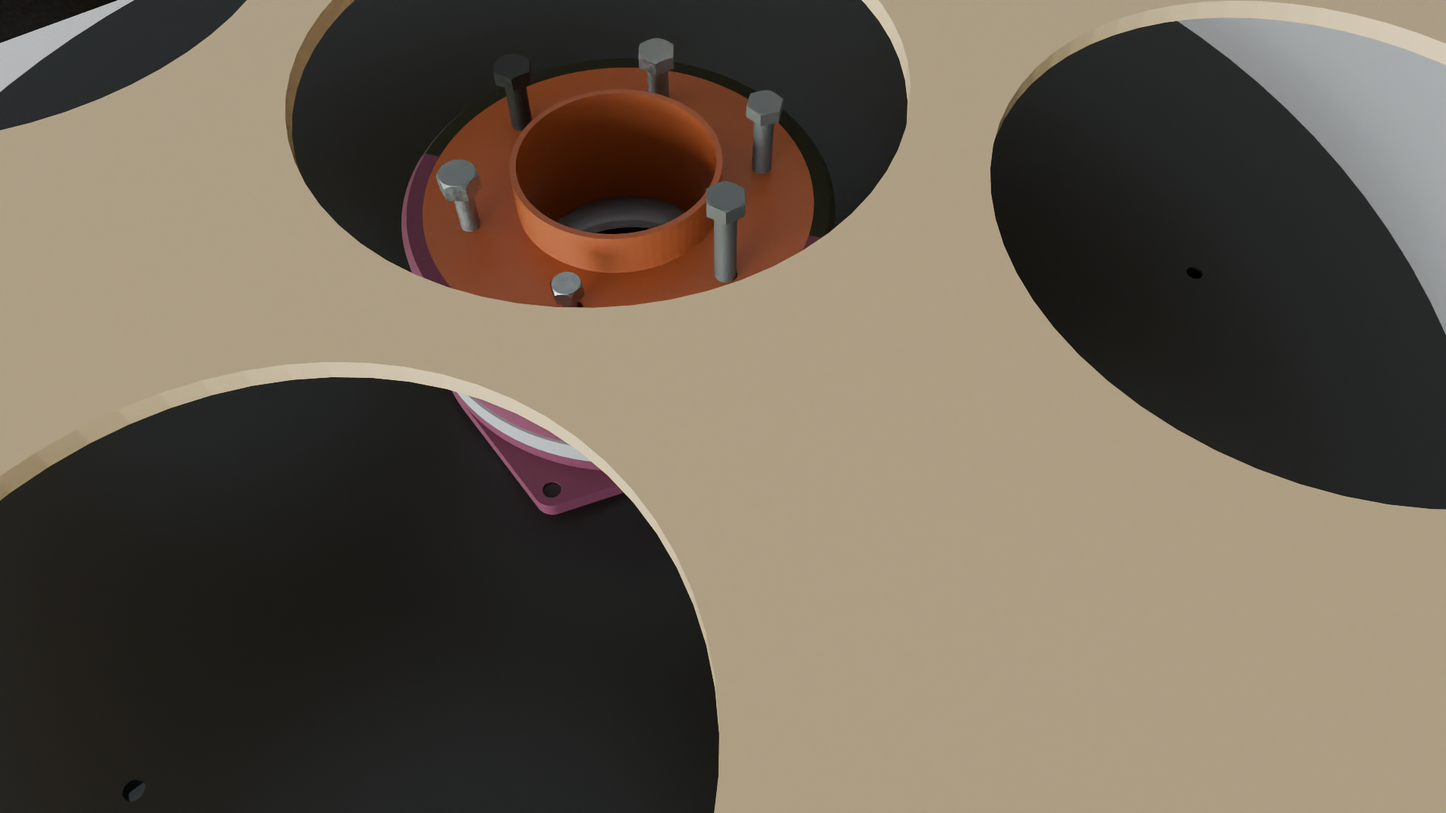bolt: (706, 181, 746, 214), (436, 160, 479, 190), (493, 53, 529, 80), (746, 90, 783, 116), (639, 38, 674, 64), (550, 272, 583, 297)
